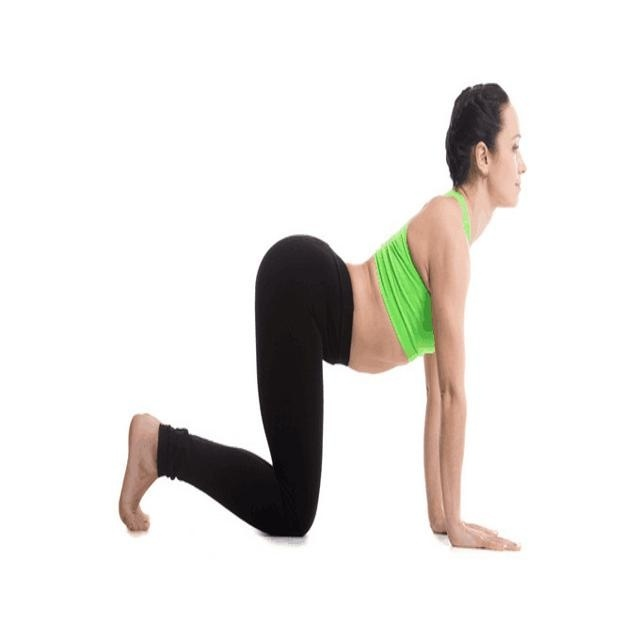Cow_Pose: (118, 85, 526, 554)
